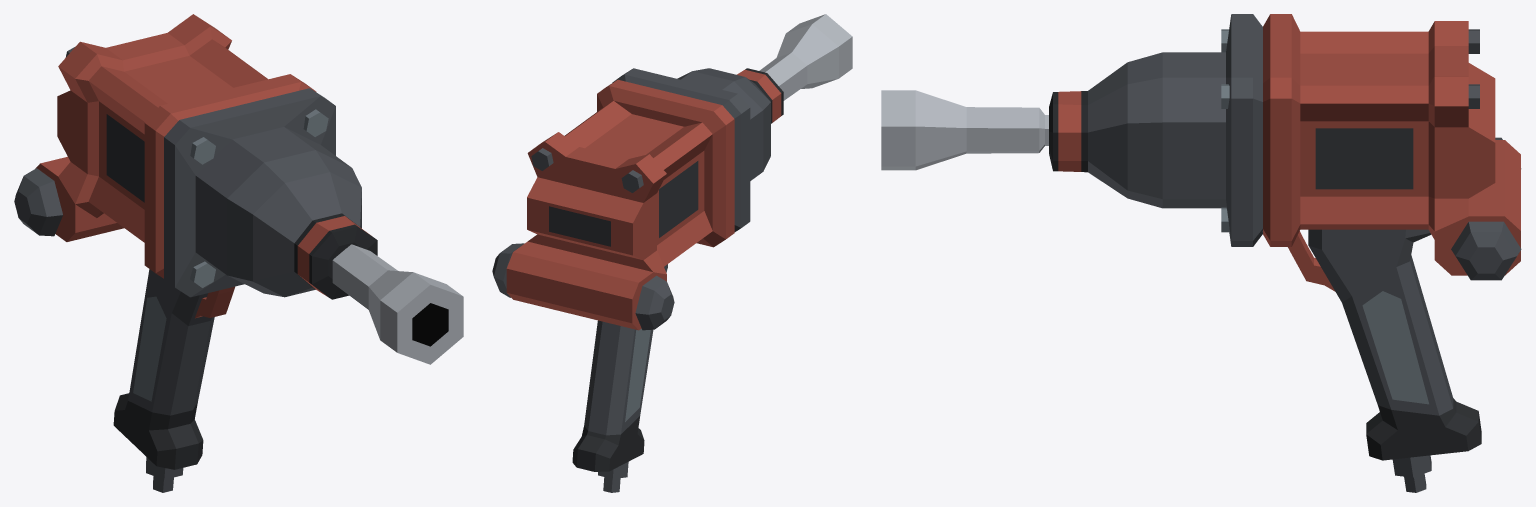
Rendered from SM_Prop_Air_Gun_01.fbx.
3 renders of one model, left to right at view 1: azimuth 30°, elevation 25°; view 2: azimuth 150°, elevation 25°; view 3: azimuth 270°, elevation 25°, orthographic. The views are drawn at different scales.
Parts seen in each view (by area): view 1: SM_Prop_Air_Gun_01; view 2: SM_Prop_Air_Gun_01; view 3: SM_Prop_Air_Gun_01.
Part boxes in pixels (<box>): SM_Prop_Air_Gun_01: <box>14,14,463,492</box>; SM_Prop_Air_Gun_01: <box>492,14,852,492</box>; SM_Prop_Air_Gun_01: <box>881,14,1521,492</box>.
Size of the model in its own units: 22.99 by 46.34 by 60.6.
